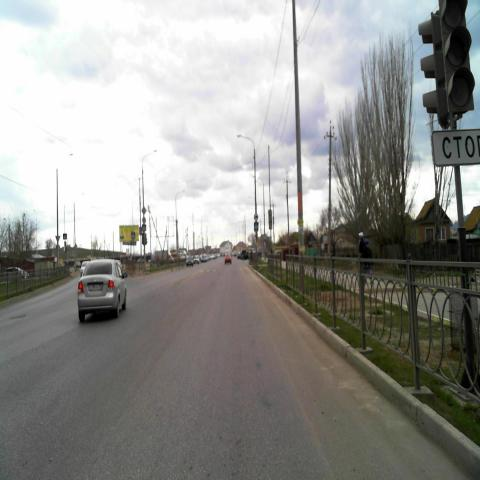3_4_1: (254, 213, 258, 220)
5_19_1: (254, 221, 258, 231), (132, 231, 136, 239), (63, 233, 67, 240), (142, 224, 146, 231)
